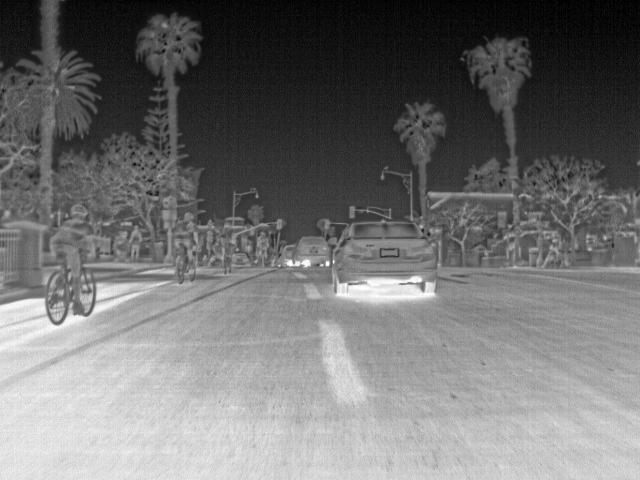car: (333, 219, 437, 297), (294, 233, 333, 267), (282, 244, 301, 266), (231, 251, 253, 269)
person: (54, 203, 94, 289), (176, 218, 200, 270), (128, 223, 144, 264), (254, 228, 271, 262), (223, 241, 236, 274)
